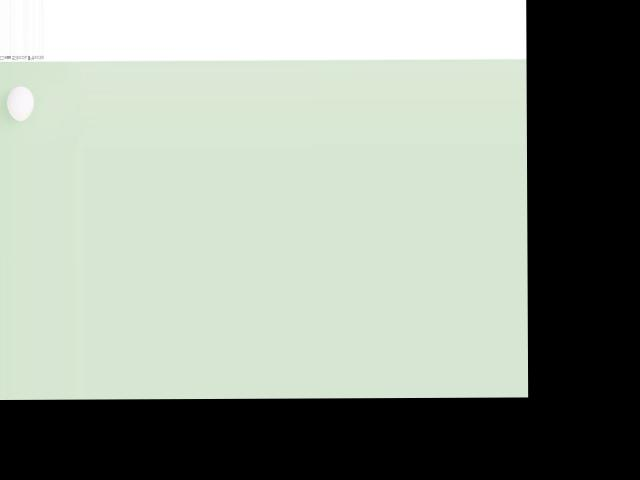egg: (7, 86, 34, 120)
